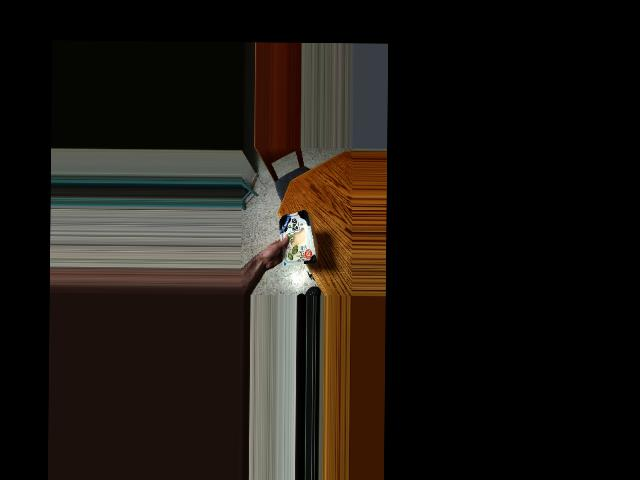cheese: (273, 216, 317, 256)
